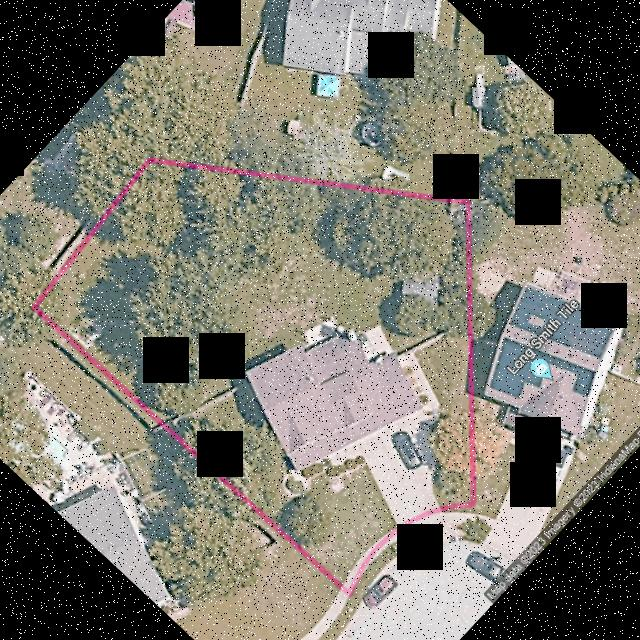Driveway: (330, 410, 436, 523), (303, 317, 392, 363), (396, 350, 437, 415)
Extra Driveway: (402, 511, 461, 553)
Extra Lawn: (348, 536, 404, 604)
Extra Sidewalk: (371, 529, 403, 560), (443, 512, 477, 528)
House: (245, 336, 421, 469)
Other: (68, 315, 100, 347), (401, 277, 437, 304)
